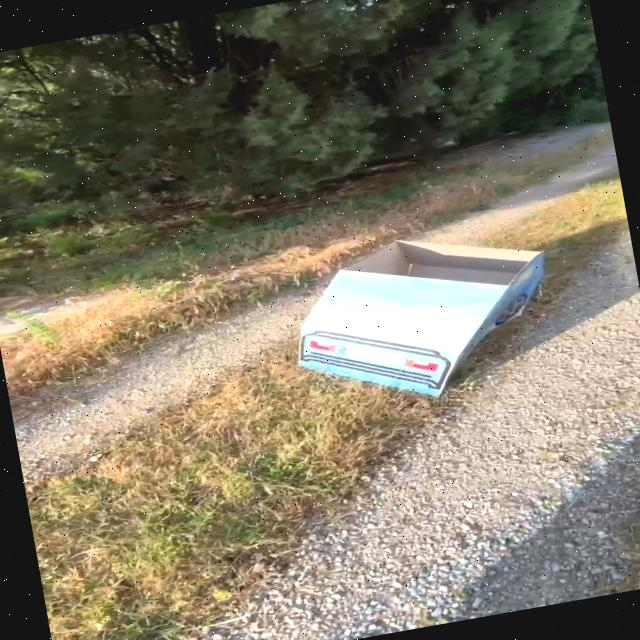blue_car: (242, 212, 578, 427)
